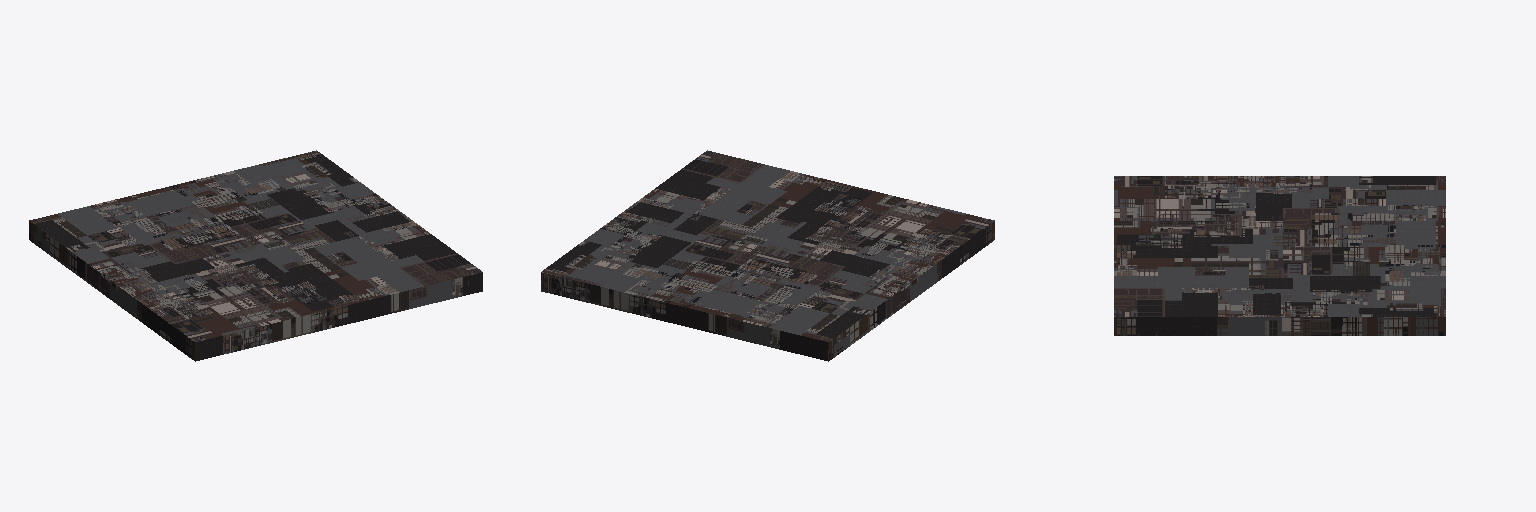
3 renders of one model, left to right at view 1: azimuth 30°, elevation 25°; view 2: azimuth 150°, elevation 25°; view 3: azimuth 270°, elevation 25°, orthographic.
Visible parts, largest first — view 1: 平面; view 2: 平面; view 3: 平面.
Boxes of the visible parts, x1,y1,x2,y2 form: 平面: [29, 150, 482, 361]; 平面: [541, 150, 994, 361]; 平面: [1114, 176, 1445, 335].
Size of the model in its own units: 2 by 0.1275 by 2.
Materials: 1 (1 with a texture image).